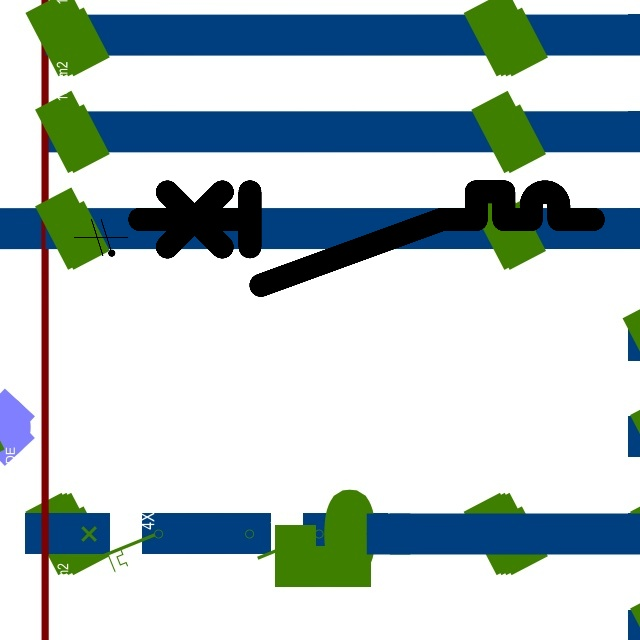interruptor_termomagnetico: (127, 180, 604, 296)
